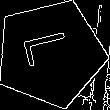L_E: (22, 32, 79, 75)
